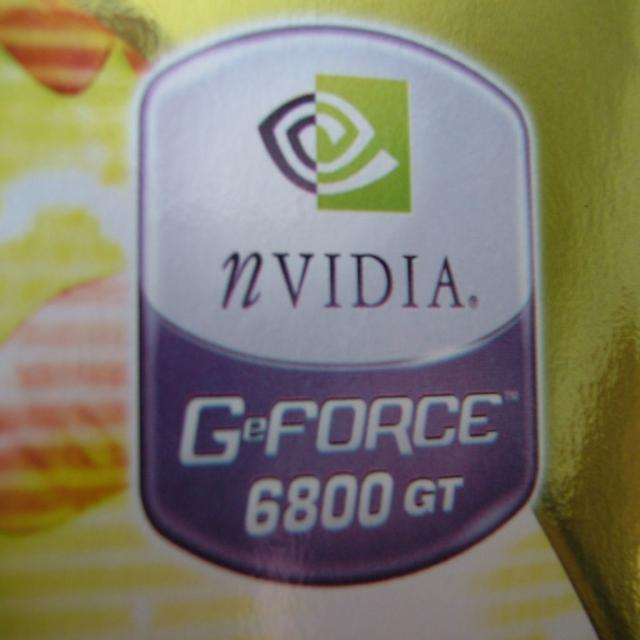nvidia: (257, 74, 412, 214)
